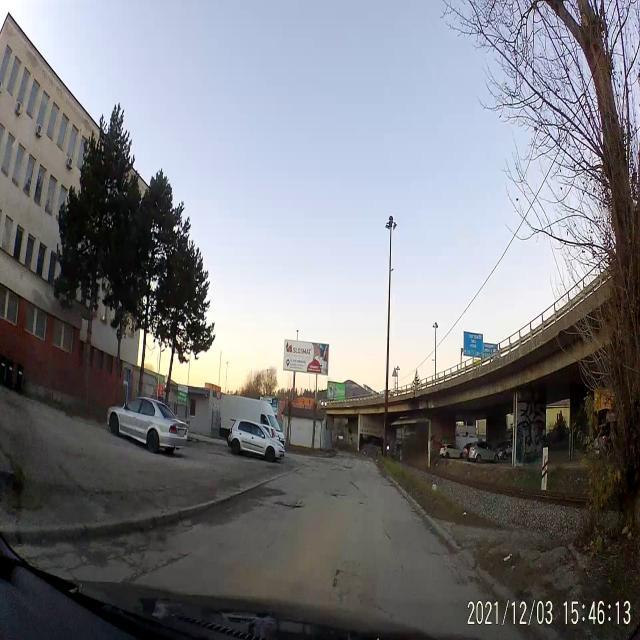Pothole: (274, 496, 306, 512), (329, 560, 344, 593), (327, 492, 347, 500)
